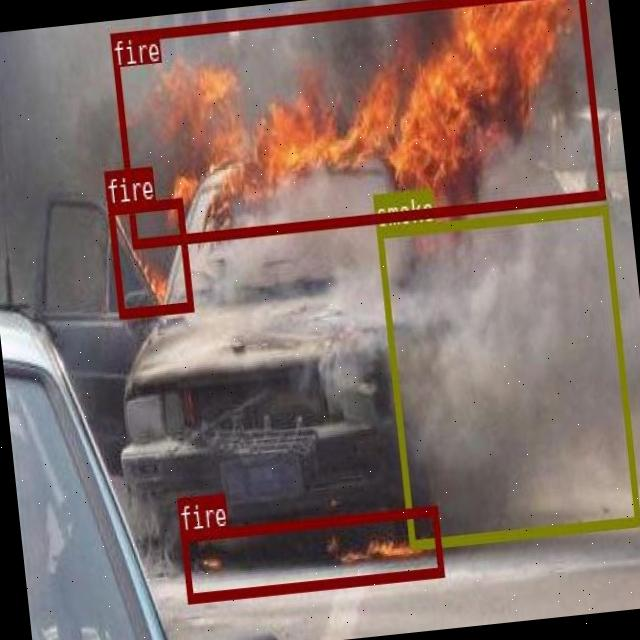fire: (108, 0, 603, 246), (180, 504, 442, 601), (106, 196, 192, 317)
smoke: (376, 204, 640, 546)
